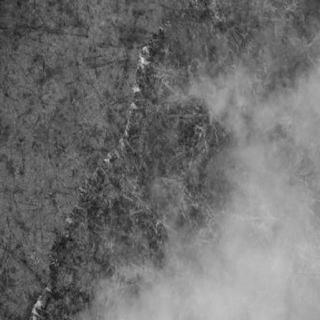Fire: (123, 40, 159, 118), (25, 285, 61, 319)
